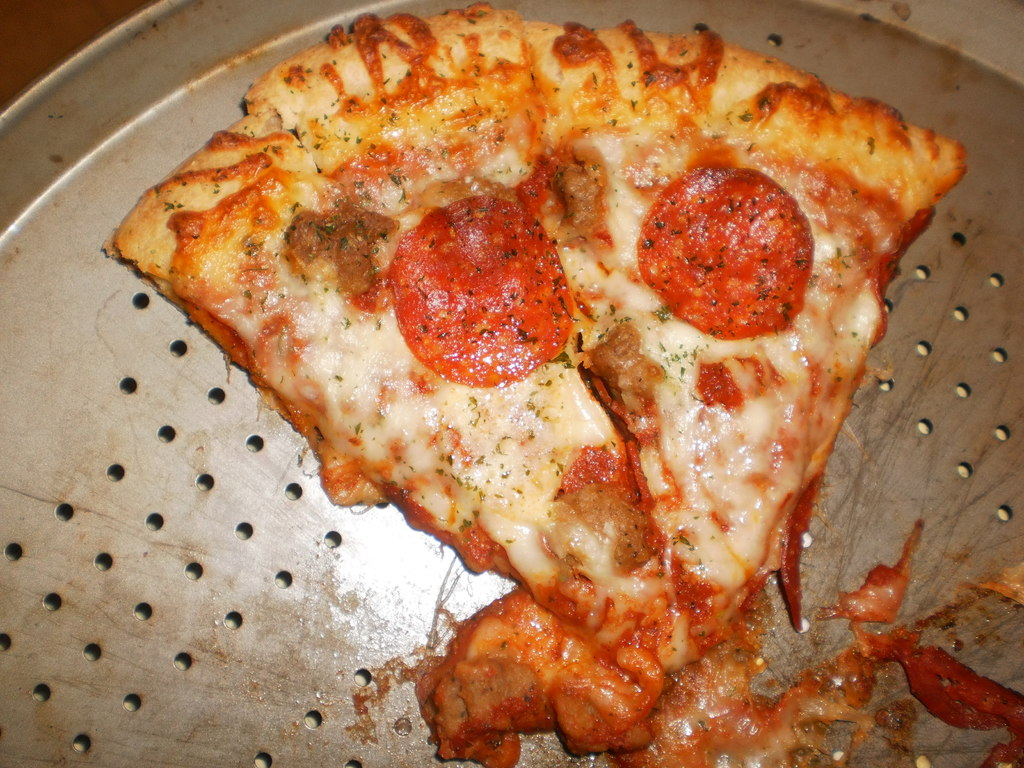Pizza: (96, 0, 695, 676)
